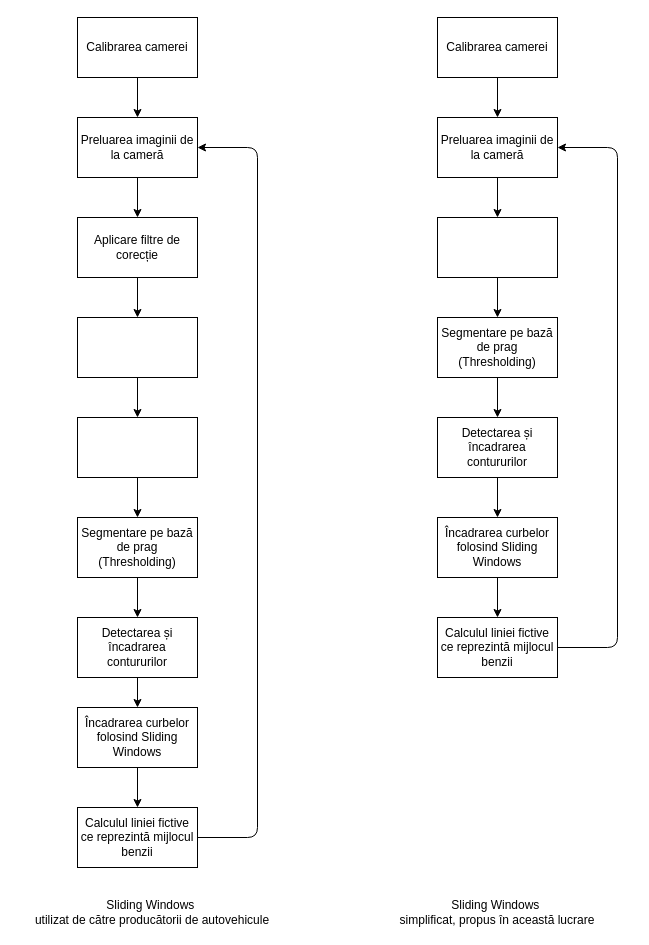
Image size: 649x945. Some labels were removed from this diagram. The centre of each missing label's shape, as x and y in pixels:
"Alegerea unei regiuni de interes (ROI)" goes at (x=137, y=347).
"Aplicare filtre de desaturare și blurare" goes at (x=497, y=247).
"Distorsionarea imaginii (Bird Eye View)" goes at (x=137, y=447).
